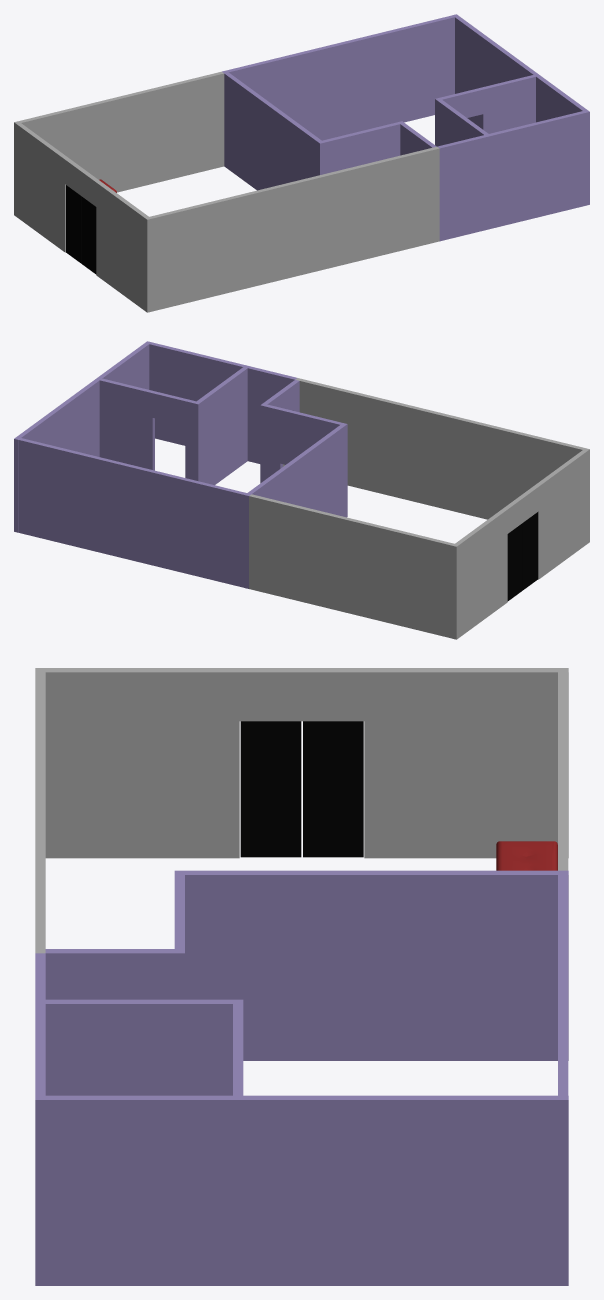
File: Wall.fbx
The picture shows the model from 3 angles, top to bottom: view 1: azimuth 30°, elevation 25°; view 2: azimuth 150°, elevation 25°; view 3: azimuth 270°, elevation 25°; orthographic projection. The views are drawn at different scales.
Visible parts, largest first — view 1: pCube1, pCube15, pCube5, pCube16, pCube9, pCube6, pCube2, pCube7, pCube4, pCube10, pCube3, pCube8; view 2: pCube15, pCube1, pCube5, pCube9, pCube7, pCube16, pCube6, pCube2, pCube3, pCube4, pCube10, pCube8; view 3: pCube2, pCube9, pCube6, pCube3, pCube10, pCube8, pCube1, pCube15, pCube5, chair, pCube16, pCube4 (+1 smaller).
Boxes of the visible parts, x1,y1,x2,y2 form: pCube1: [148, 146, 439, 311]; pCube15: [226, 15, 454, 140]; pCube5: [16, 71, 224, 192]; pCube16: [437, 111, 585, 241]; pCube9: [14, 122, 150, 312]; pCube6: [222, 70, 324, 190]; pCube2: [452, 14, 589, 205]; pCube7: [435, 75, 535, 146]; pCube4: [322, 121, 403, 173]; pCube10: [66, 185, 96, 274]; pCube3: [437, 99, 488, 146]; pCube8: [400, 123, 436, 155]; pCube15: [18, 438, 246, 587]; pCube1: [295, 378, 585, 519]; pCube5: [249, 494, 456, 638]; pCube9: [452, 448, 589, 639]; pCube7: [99, 378, 200, 481]; pCube16: [149, 342, 296, 463]; pCube6: [244, 423, 347, 588]; pCube2: [14, 341, 151, 532]; pCube3: [196, 367, 247, 485]; pCube4: [260, 403, 342, 483]; pCube10: [507, 512, 537, 601]; pCube8: [263, 380, 299, 412]; pCube2: [35, 1095, 568, 1285]; pCube9: [35, 668, 568, 858]; pCube6: [174, 870, 568, 1060]; pCube3: [45, 999, 232, 1095]; pCube10: [240, 721, 363, 857]; pCube8: [45, 949, 174, 999]; pCube1: [35, 670, 45, 953]; pCube15: [558, 875, 568, 1095]; pCube5: [558, 670, 568, 870]; chair: [496, 841, 557, 870]; pCube16: [35, 953, 45, 1095]; pCube4: [174, 875, 184, 999].
Size of the model in its own units: 88.85 by 17.87 by 46.36.
